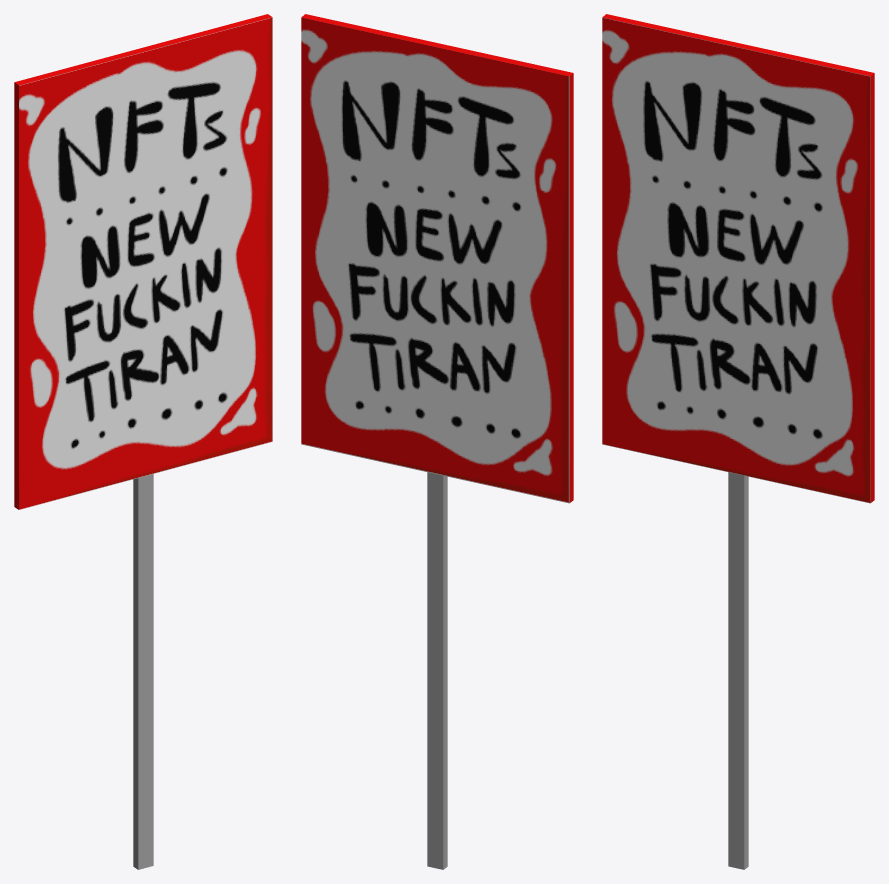
File: sword.glb
3 views of the same model, side by side, from view 1: azimuth 30°, elevation 25°; view 2: azimuth 150°, elevation 25°; view 3: azimuth 330°, elevation 25° (orthographic).
Visible parts, largest first — view 1: Sign; view 2: Sign; view 3: Sign.
Boxes of the visible parts, <box> form: Sign: <box>14,14,272,869</box>; Sign: <box>301,14,573,869</box>; Sign: <box>602,14,874,869</box>.
Bounding box in the file's own units: 0.3478 × 1.04 × 0.0256.
Materials: 4 (1 with a texture image).
